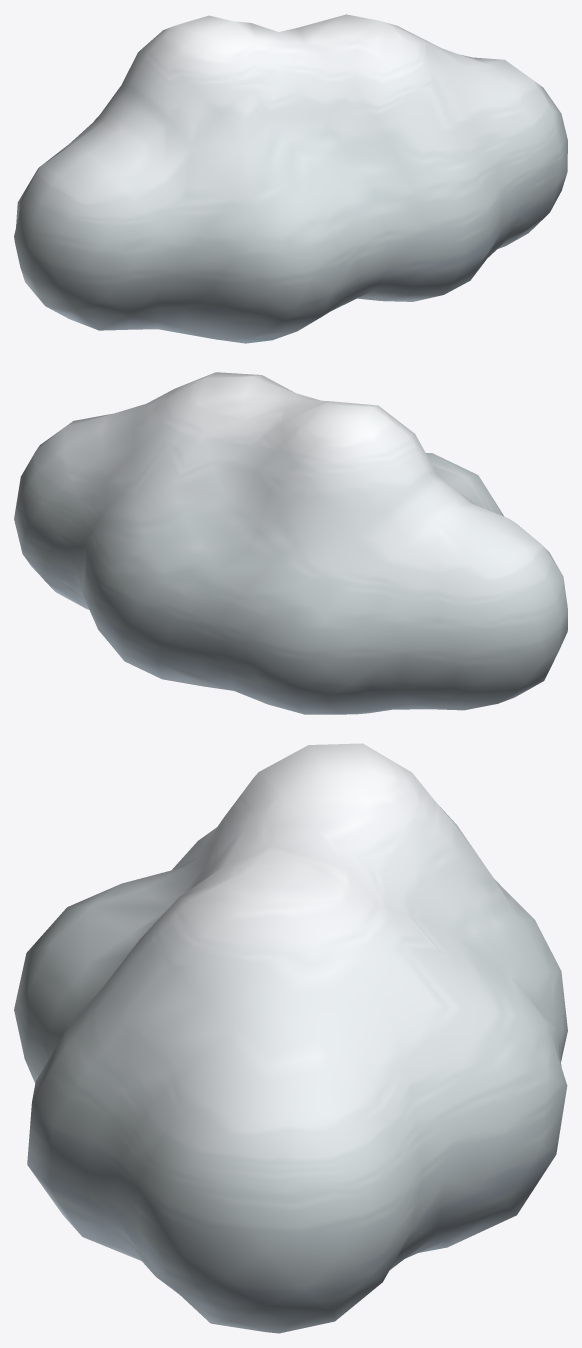
File: cloud_big.glb
The picture shows the model from 3 angles, top to bottom: view 1: azimuth 30°, elevation 25°; view 2: azimuth 150°, elevation 25°; view 3: azimuth 270°, elevation 25°; orthographic projection. The views are drawn at different scales.
Visible parts, largest first — view 1: cloud_big; view 2: cloud_big; view 3: cloud_big.
Part boxes in pixels (<box>): cloud_big: <box>14,14,567,343</box>; cloud_big: <box>14,372,567,714</box>; cloud_big: <box>14,743,567,1333</box>.
Bounding box in the file's own units: 3.61 × 1.95 × 2.24.
Materials: 1 (1 with a texture image).
